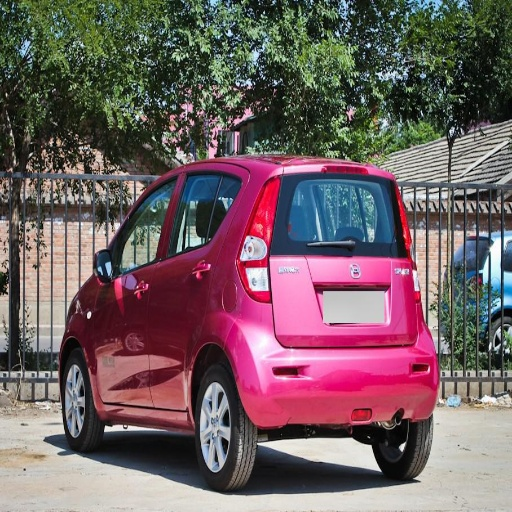back_bumper: (235, 300, 437, 427)
back_glass: (300, 183, 391, 237)
back_left_door: (144, 170, 217, 408)
trunk: (251, 233, 420, 349)
